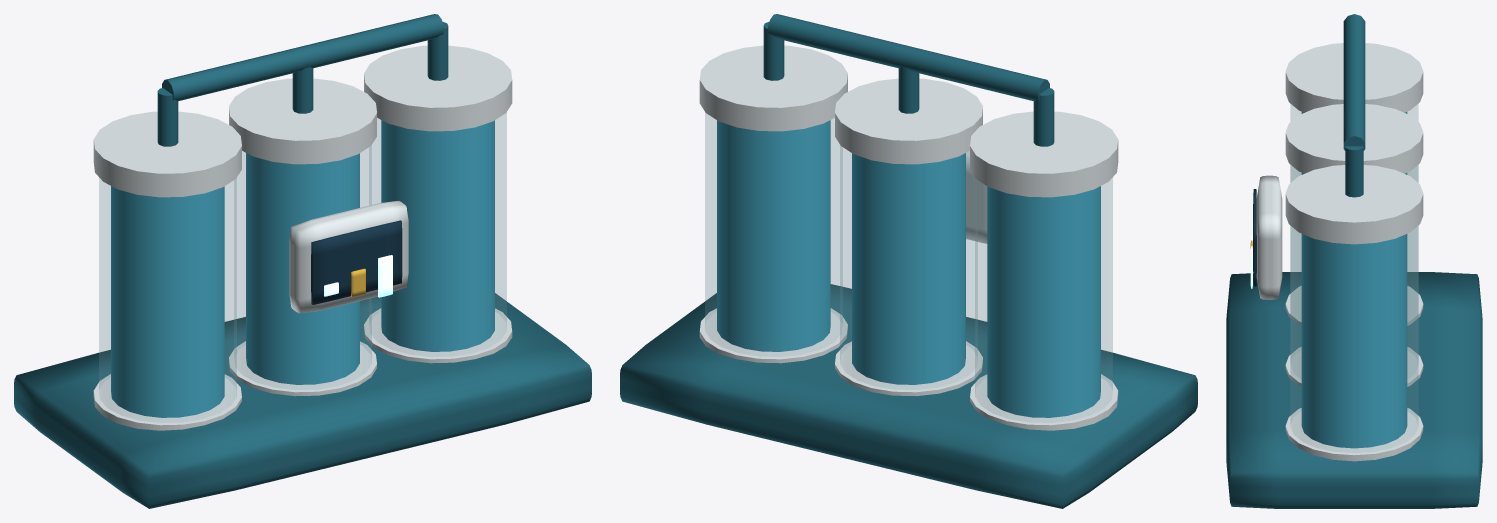
Rendered from purificador-agua.glb.
3 views of the same model, side by side, from view 1: azimuth 30°, elevation 25°; view 2: azimuth 150°, elevation 25°; view 3: azimuth 270°, elevation 25° (orthographic). The views are drawn at different scales.
Visible parts, largest first — view 1: Cristal, Agua, Petroleo, Blanco, Pantalla, Luz; view 2: Cristal, Agua, Petroleo, Blanco; view 3: Petroleo, Blanco, Cristal, Agua, Pantalla.
Part boxes in pixels (x1,y1,x2,y2): Cristal: (99, 113, 506, 422); Agua: (111, 120, 494, 417); Petroleo: (14, 14, 591, 508); Blanco: (93, 45, 512, 430); Pantalla: (311, 220, 402, 304); Luz: (324, 255, 392, 297); Cristal: (705, 113, 1112, 422); Agua: (717, 120, 1100, 417); Petroleo: (620, 14, 1197, 508); Blanco: (699, 45, 1118, 430); Petroleo: (1226, 14, 1482, 508); Blanco: (1256, 43, 1423, 461); Cristal: (1290, 104, 1418, 452); Agua: (1301, 112, 1407, 448); Pantalla: (1253, 189, 1256, 286).
Bounding box in the file's own units: 4.35 × 3.36 × 2.32.
